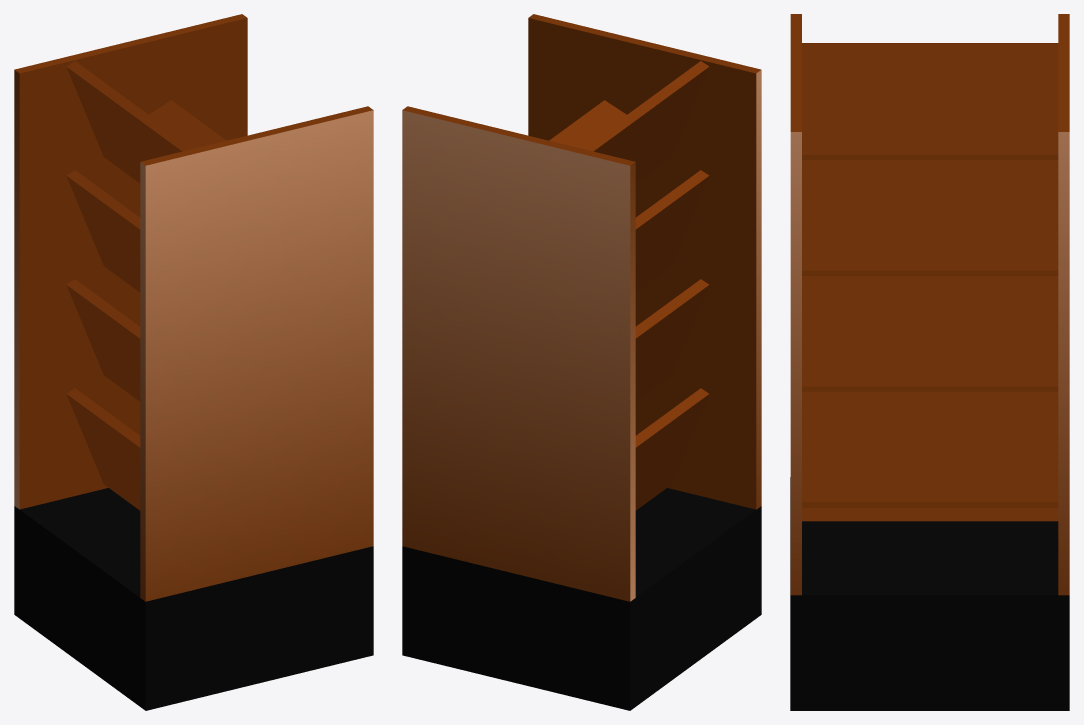
The model's file is Floor_Shelf_B.obj.
The picture shows the model from 3 angles, left to right: view 1: azimuth 30°, elevation 25°; view 2: azimuth 150°, elevation 25°; view 3: azimuth 270°, elevation 25°; orthographic projection. The views are drawn at different scales.
Parts seen in each view (by area): view 1: Floor_Shelf_B_Cube.003; view 2: Floor_Shelf_B_Cube.003; view 3: Floor_Shelf_B_Cube.003.
Part boxes in pixels (box(x1,y1,x2,y2)): Floor_Shelf_B_Cube.003: box(14, 14, 373, 710); Floor_Shelf_B_Cube.003: box(402, 14, 761, 710); Floor_Shelf_B_Cube.003: box(790, 14, 1069, 710).
Bounding box in the file's own units: 2 × 4.57 × 2.
